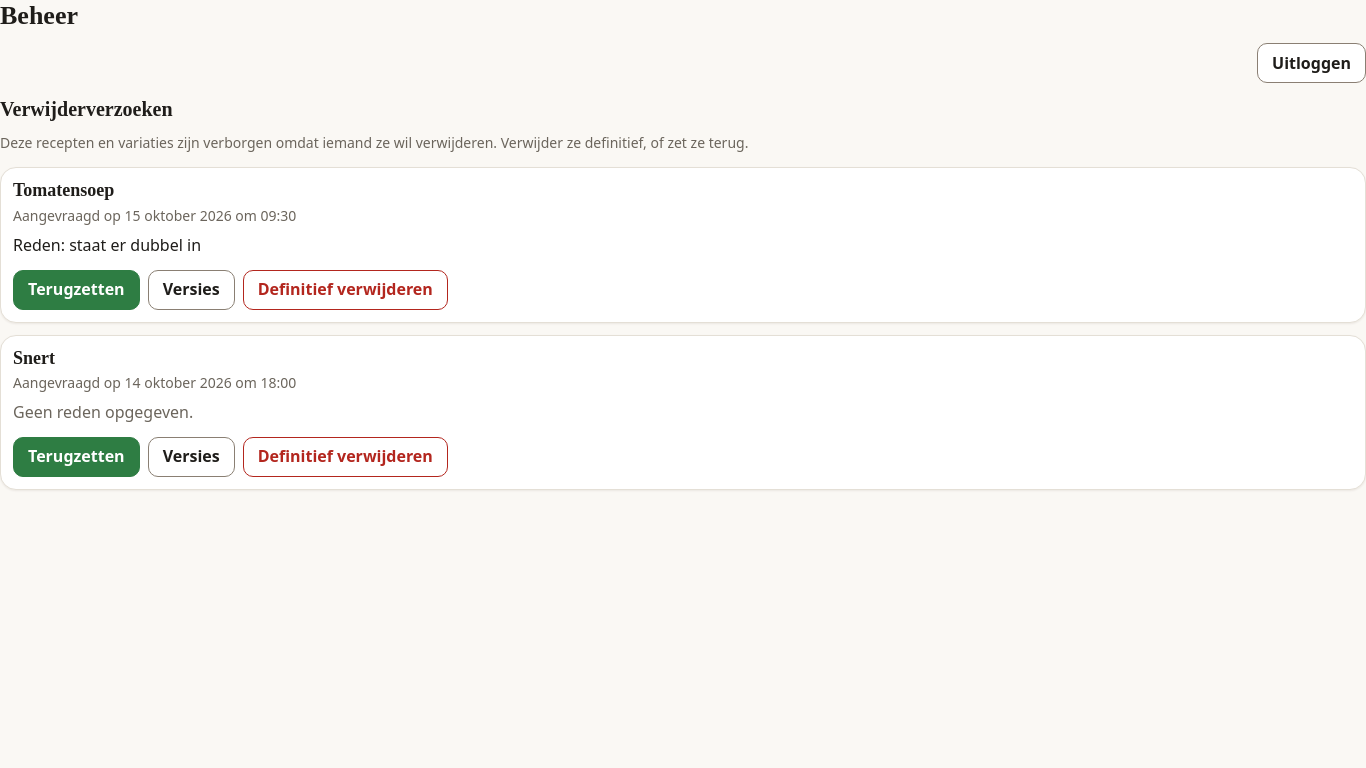
it: AdminView › verwijdert pas definitief na bevestiging in het venster
The width and height of the screenshot is (1366, 768).
Click the button with class "destroy" below "Snert": (345,457) [243,437,448,477]
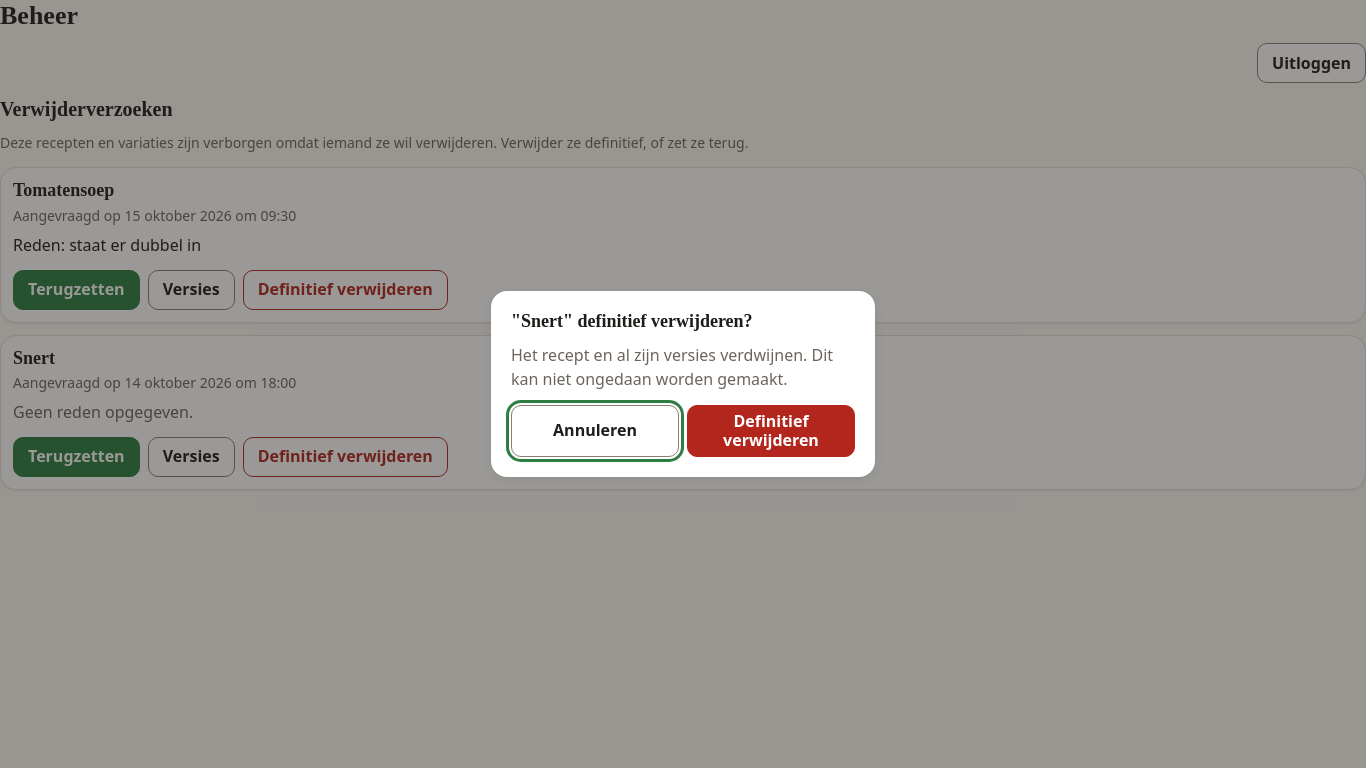
Now the heading "\"Snert\" definitief verwijderen?" reads "\"Snert\" definitief verwijderen?", box [511,311,753,331]
Click the button with class "cancel": (595,431) [511,405,679,457]
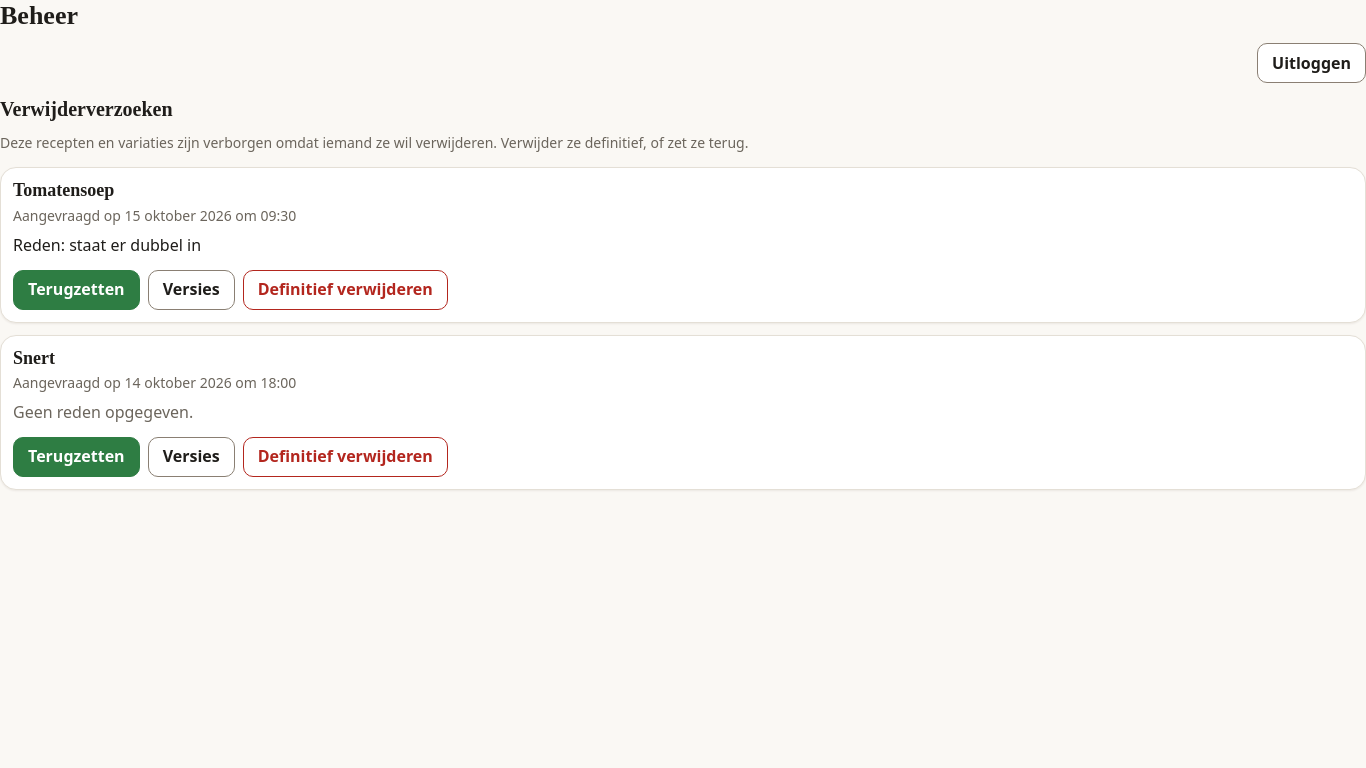
Click the button with class "destroy" below "Snert": (345,457) [243,437,448,477]
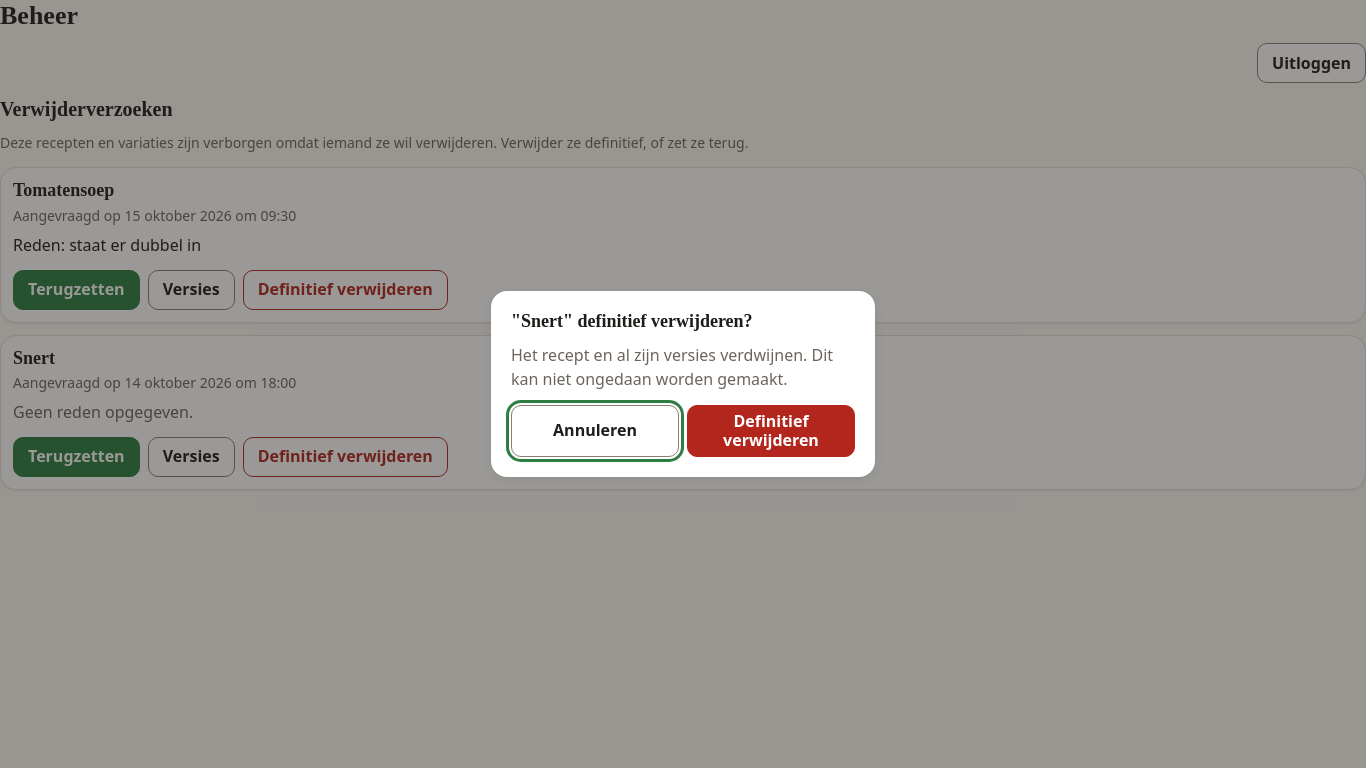
Now the button with class "confirm" reads "Definitief verwijderen"
Click the button with class "confirm": (771,431) [687,405,855,457]
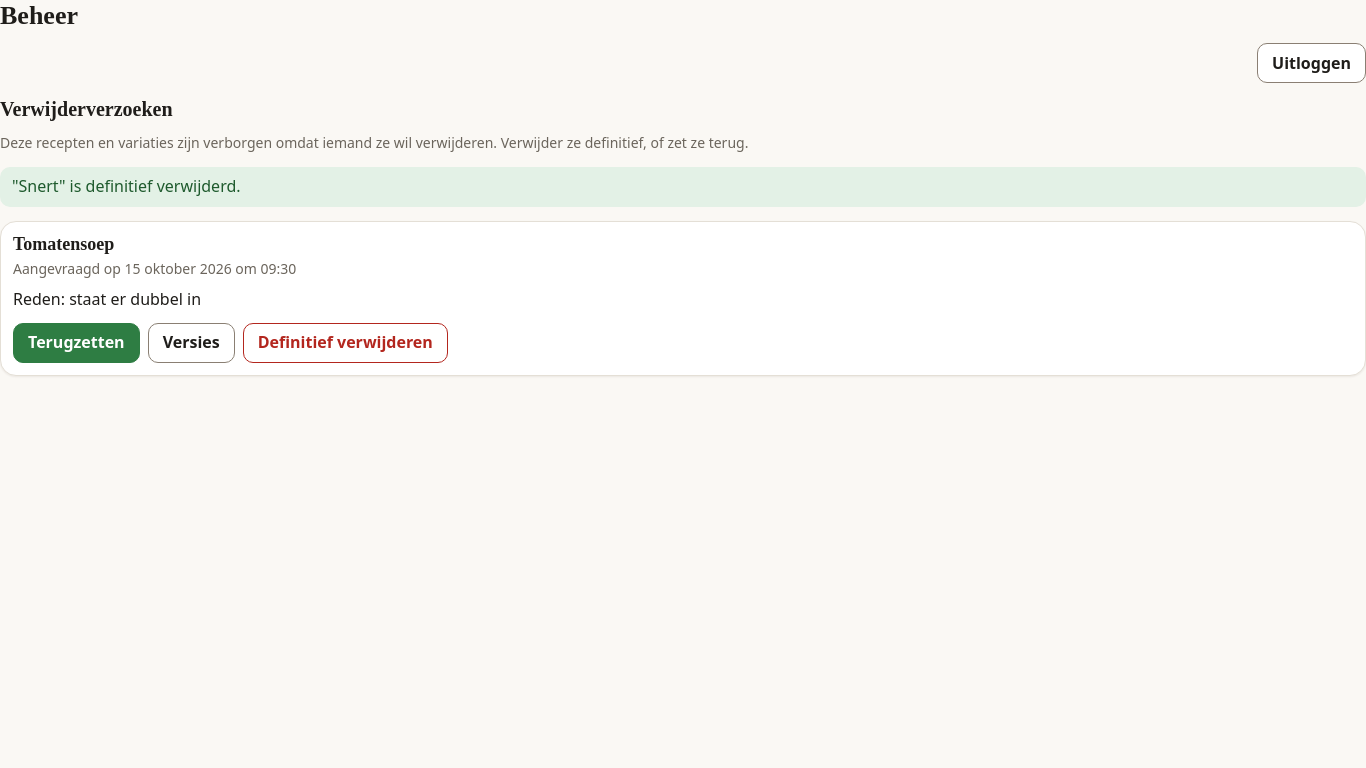
Now the message "\"Snert\" is definitief verwijderd." reads "\"Snert\" is definitief verwijderd.", box [12,176,240,198]
